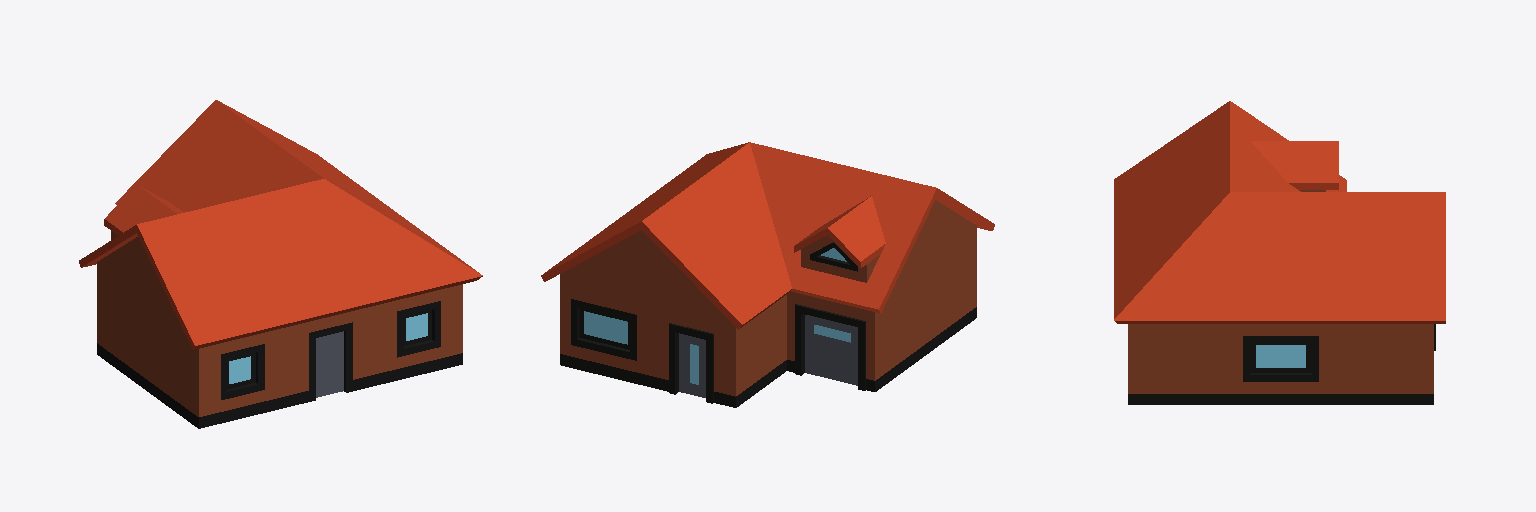
File: insta_residential_wood_1.obj
3 renders of one model, left to right at view 1: azimuth 30°, elevation 25°; view 2: azimuth 150°, elevation 25°; view 3: azimuth 270°, elevation 25°, orthographic.
Visible parts, largest first — view 1: city_residential_1; view 2: city_residential_1; view 3: city_residential_1.
Boxes of the visible parts, x1,y1,x2,y2 form: city_residential_1: [79, 100, 482, 428]; city_residential_1: [541, 142, 994, 407]; city_residential_1: [1114, 101, 1445, 404].
Size of the model in its own units: 0.9418 by 0.531 by 0.9418.